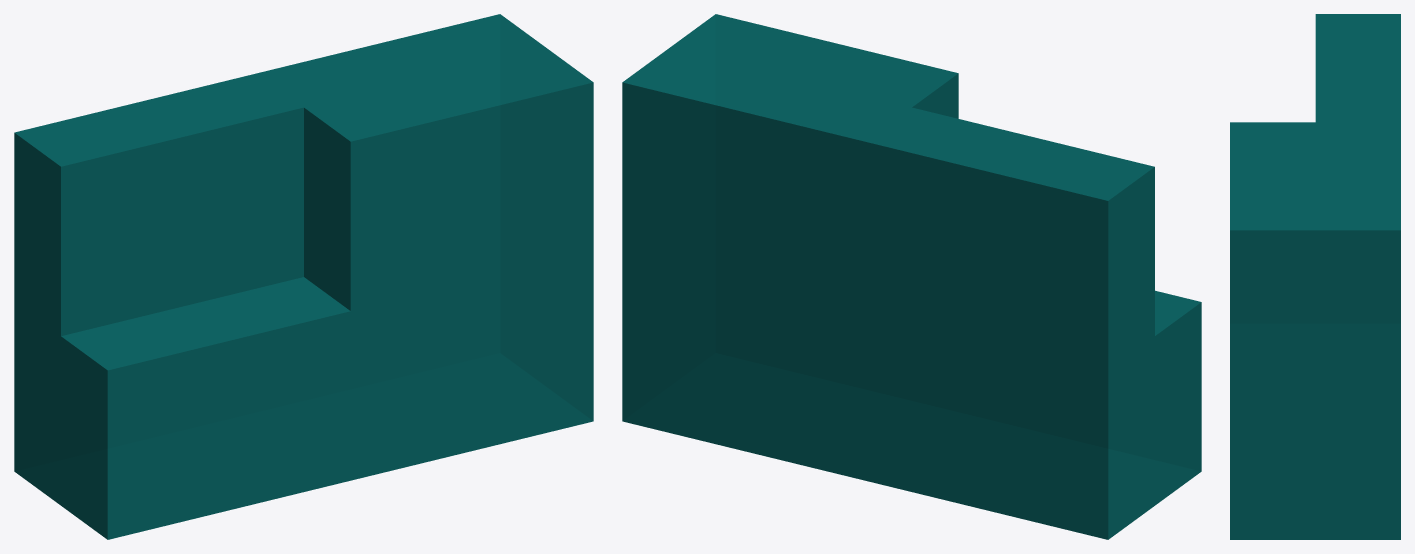
3 views of the same model, side by side, from view 1: azimuth 30°, elevation 25°; view 2: azimuth 150°, elevation 25°; view 3: azimuth 270°, elevation 25° (orthographic). The views are drawn at different scales.
Parts seen in each view (by area): view 1: SketchUp; view 2: SketchUp; view 3: SketchUp.
Boxes of the visible parts, left/top/right/bottom form: SketchUp: left=14, top=14, right=593, bottom=539; SketchUp: left=622, top=14, right=1201, bottom=539; SketchUp: left=1230, top=14, right=1400, bottom=539.
Bounding box in the file's own units: 236 × 78.74 × 157.
